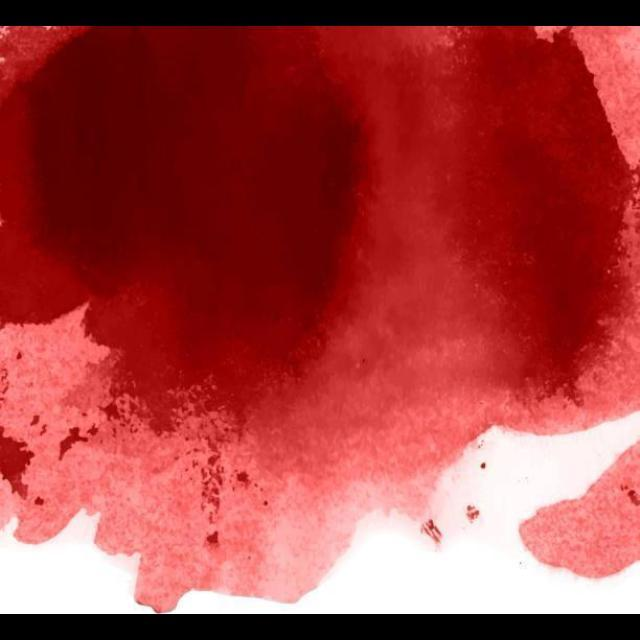blood: (0, 27, 640, 613), (521, 443, 640, 580)
